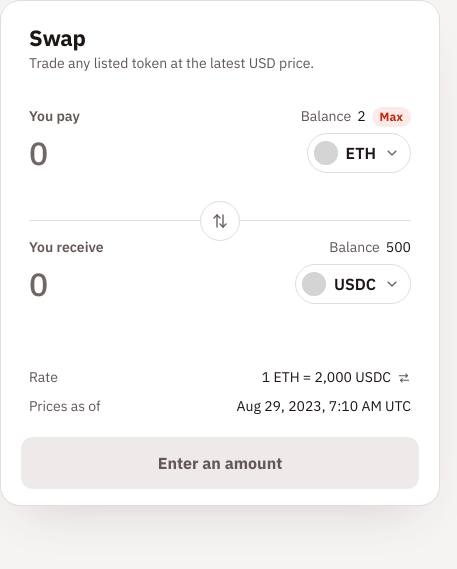
Scenario: SwapForm › fills the full balance with Max
This screenshot has width=457, height=569.
Click the button with aria-label "Max: use your full balance" at (391, 117), box top-left (372, 107), bottom-right (411, 127)
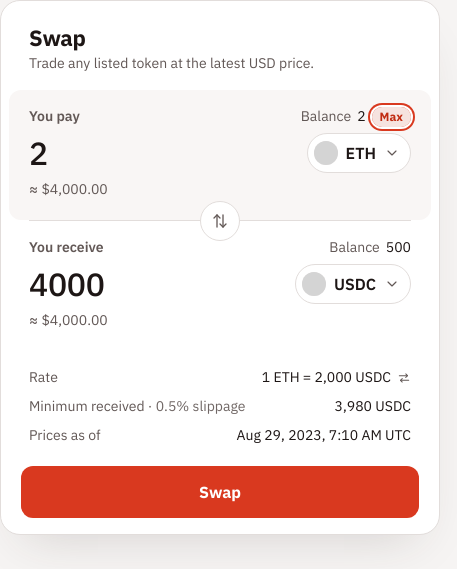
Expected: the field labelled "You pay" holds "2", top-left (29, 133), bottom-right (295, 173)
